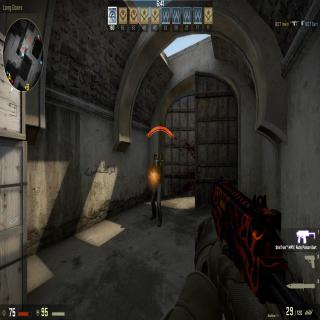T-Body: (149, 152, 162, 226)
T-Head: (152, 151, 158, 167)
